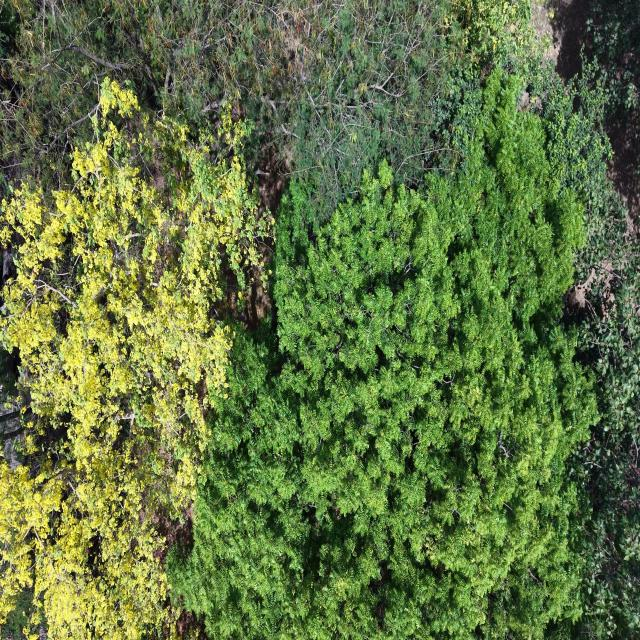DRY_AREA: (605, 112, 639, 242), (605, 119, 639, 237), (605, 112, 639, 226), (607, 112, 639, 227), (549, 0, 588, 81)
VEGETATION_TREE: (0, 0, 639, 639), (168, 72, 594, 638), (0, 80, 268, 638), (0, 0, 458, 215), (524, 60, 639, 637), (536, 65, 639, 637), (567, 193, 639, 637), (547, 0, 639, 225), (587, 0, 639, 225), (586, 0, 639, 171), (587, 0, 639, 130)
